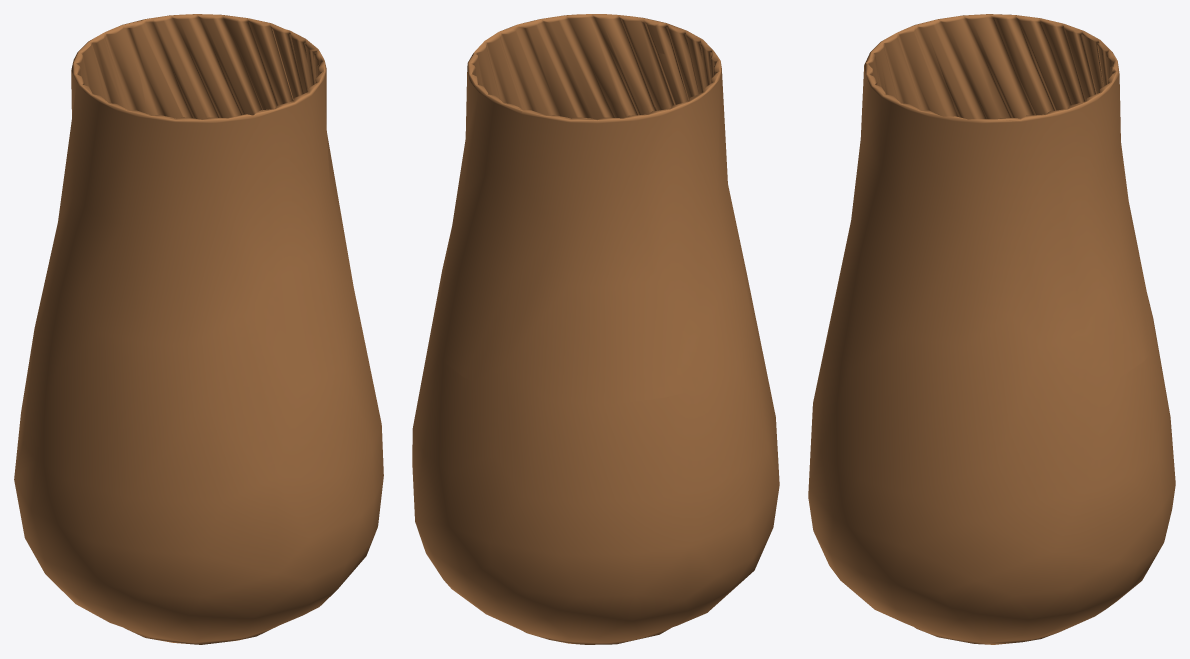
The model's file is 08 - PÅSKÖTRÄD Vase - glasslight brown 13.5 cm.glb.
The picture shows the model from 3 angles, left to right: view 1: azimuth 30°, elevation 25°; view 2: azimuth 150°, elevation 25°; view 3: azimuth 270°, elevation 25°; orthographic projection.
Parts seen in each view (by area): view 1: ASY_ART_70610540_S01_NV01; view 2: ASY_ART_70610540_S01_NV01; view 3: ASY_ART_70610540_S01_NV01.
Part boxes in pixels (left/top/right/bottom): ASY_ART_70610540_S01_NV01: left=14, top=14, right=383, bottom=644; ASY_ART_70610540_S01_NV01: left=412, top=14, right=779, bottom=644; ASY_ART_70610540_S01_NV01: left=808, top=14, right=1175, bottom=644.
Size of the model in its own units: 0.0839 by 0.136 by 0.0838.
1 material, 1 textured.
